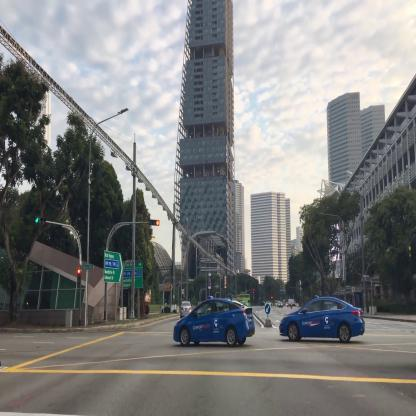red_traffic_light: (149, 219, 159, 226)
